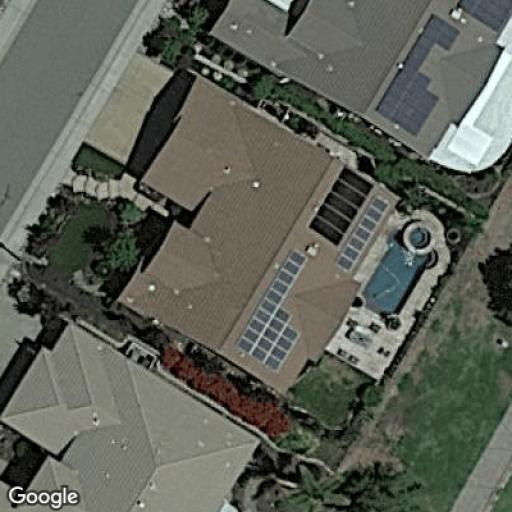solar-panel: (373, 12, 461, 138), (234, 250, 308, 374), (307, 166, 390, 272), (457, 0, 511, 33)
